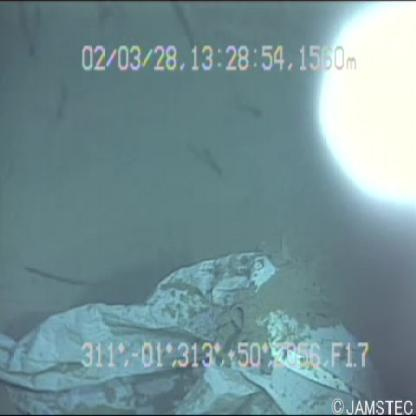Rác: (2, 242, 398, 416)
